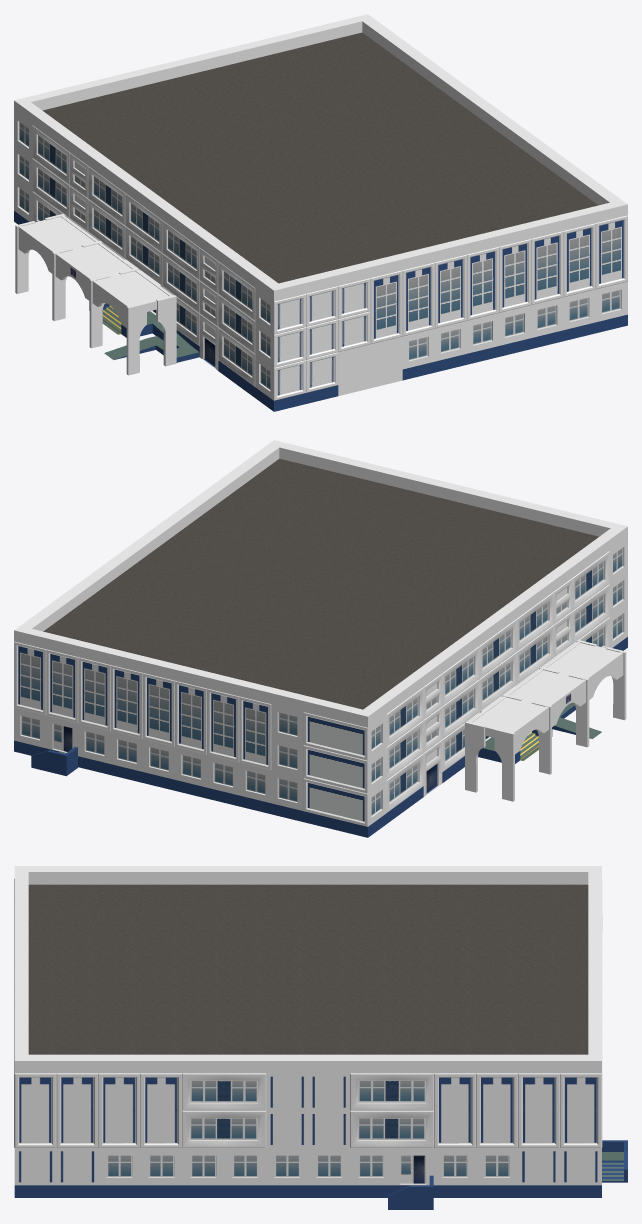
The model's file is house_new_9.glb.
3 views of the same model, one above another, from view 1: azimuth 30°, elevation 25°; view 2: azimuth 150°, elevation 25°; view 3: azimuth 270°, elevation 25° (orthographic). The views are drawn at different scales.
Visible parts, largest first — view 1: Mesh_5.001; view 2: Mesh_5.001; view 3: Mesh_5.001.
Boxes of the visible parts, box(x1,y1,x2,y2) form: Mesh_5.001: box(14, 14, 627, 411); Mesh_5.001: box(14, 440, 627, 837); Mesh_5.001: box(14, 866, 627, 1209).
Size of the model in its own units: 7.01 by 1.83 by 7.4.
Materials: 3 (3 with a texture image).
